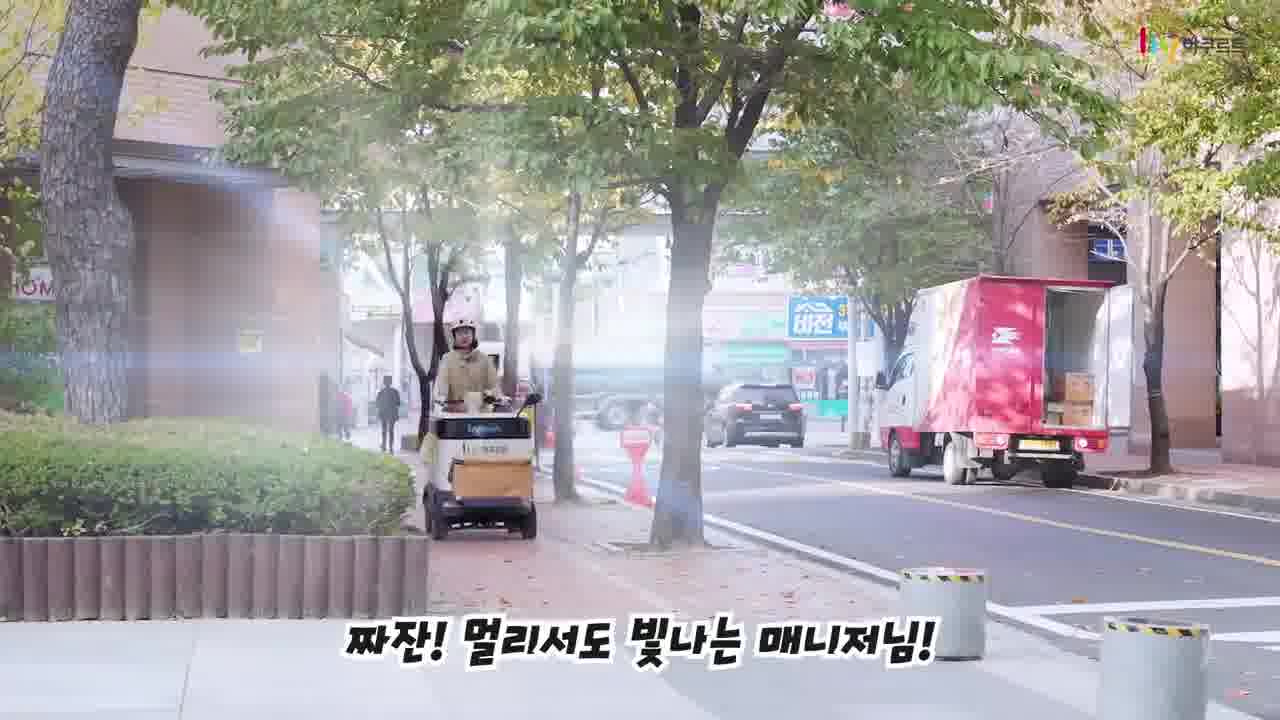Yakurut: (425, 313, 522, 435)
